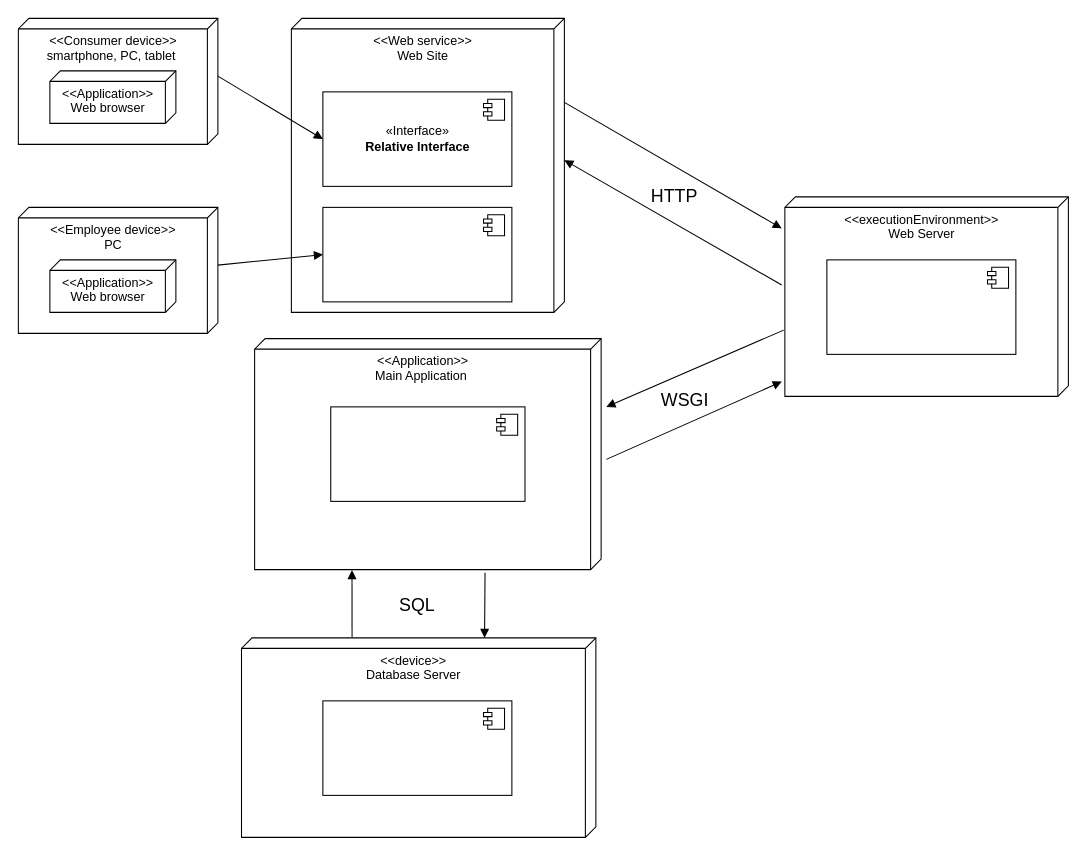
This 1087x856 diagram has some shape labels left out. Each missing label, with the centre of its shape:
"<<artifact>> SQLite 3" belongs at pixel 417 747.
"APACHE 2" belongs at pixel 921 306.
"DJANGO" belongs at pixel 427 453.
"«Interface» Employee Interface" belongs at pixel 417 254.
